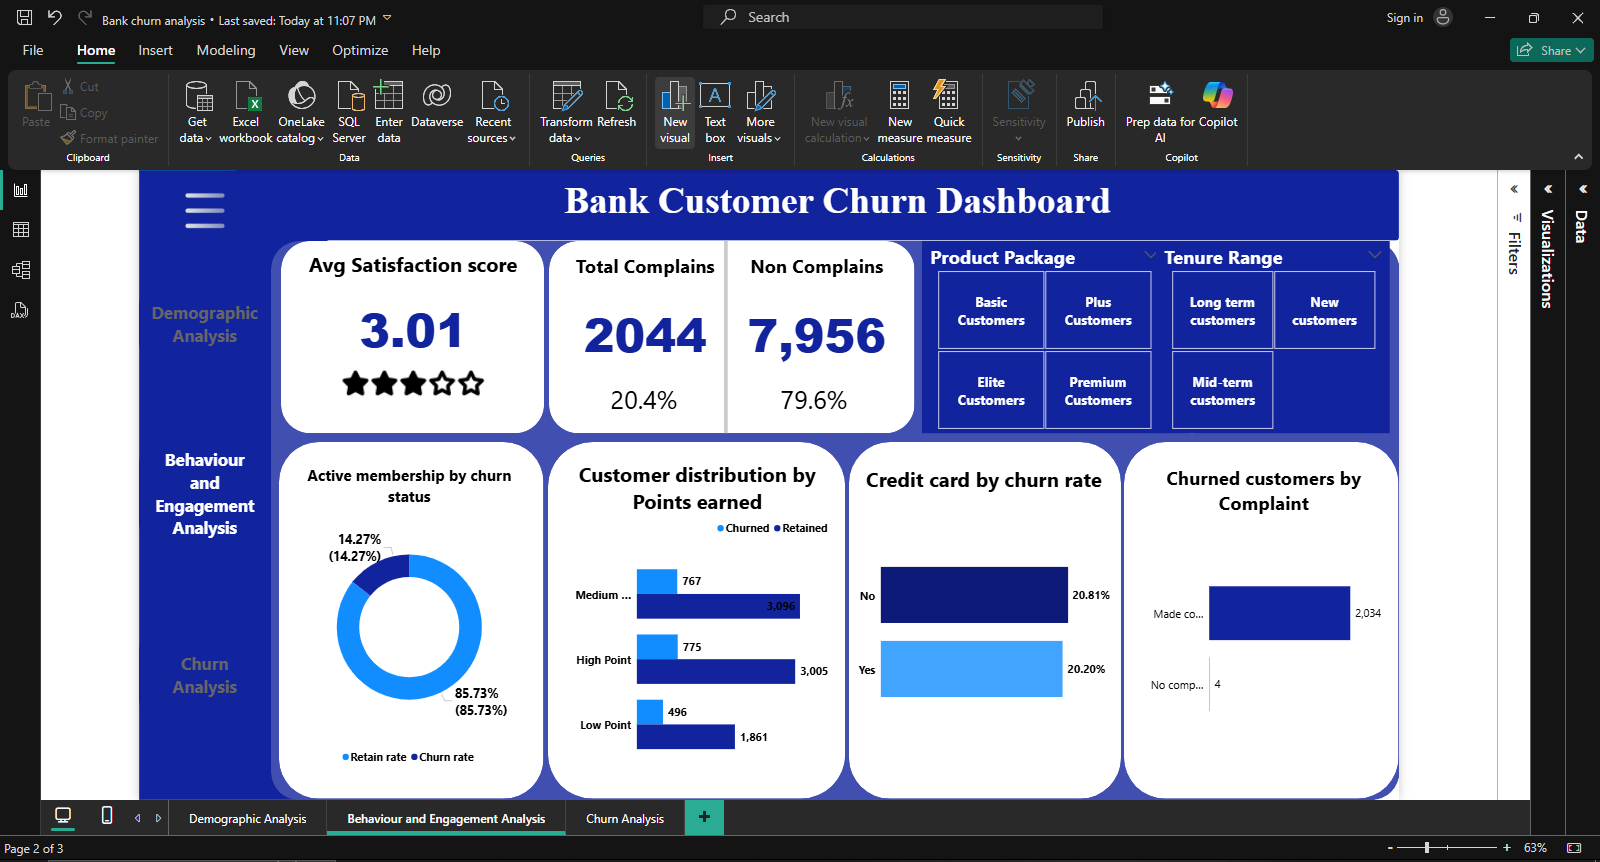

Layout of this report page (visuals, bound fields, positions):
{"tool":"powerbi","page":{"name":"Behaviour and Engagement Analysis","canvas":[2000,1000],"ordinal":1},"visuals":[{"type":"shape","box":[0,0,299.2,1000],"z":0},{"type":"shape","box":[208.8,112.4,1791.2,887.6],"z":1000},{"type":"shape","box":[150.6,0,1849.4,112.4],"z":2000},{"type":"textbox","box":[375.5,10,1465.9,90.4],"z":3000},{"type":"image","box":[50.2,28.1,108.4,72.3],"z":4000},{"type":"actionButton","box":[0,182.7,208.8,122.5],"z":5000},{"type":"actionButton","box":[0,417.7,208.8,192.8],"z":6000},{"type":"actionButton","box":[0,722.9,208.8,158.6],"z":7000},{"type":"shape","box":[1564.3,431.7,435.7,566.3],"z":8000},{"type":"shape","box":[1126.5,431.7,431.7,566.3],"z":9000},{"type":"shape","box":[648.6,431.7,471.9,566.3],"z":10000},{"type":"shape","box":[650.6,112.4,580.3,305.2],"z":11000},{"type":"shape","box":[222.9,431.7,419.7,566.3],"z":12000},{"type":"shape","box":[224.9,112.4,417.7,305.2],"z":13000},{"type":"card","title":"Avg Satisfaction score","fields":{"Values":["All Measures.Satisfaction Distribution"]},"box":[241,126.5,387.6,200.8],"z":14000},{"type":"card","title":"Total Complains","fields":{"Values":["All Measures.Total complains"]},"box":[664.7,132.5,277.1,208.8],"z":15000},{"type":"card","fields":{"Values":["All Measures.% No Complaint"]},"box":[992,327.3,158.6,72.3],"z":16000},{"type":"card","fields":{"Values":["All Measures.% Complaint"]},"box":[722.9,327.3,158.6,72.3],"z":17000},{"type":"shape","box":[781.1,112.4,301.2,305.2],"z":18000},{"type":"card","title":"Non Complains","fields":{"Values":["All Measures.No Complains"]},"box":[941.8,132.5,269.1,208.8],"z":19000},{"type":"clusteredBarChart","title":"Customer distribution by Points earned","fields":{"Y":["All Measures.Total Customers"],"Category":["Customer_Churn_Records (2).Point range"],"Series":["Customer_Churn_Records (2).Churn status"]},"box":[668.7,459.8,435.7,510],"z":20000},{"type":"donutChart","title":"Active membership by churn status","fields":{"Y":["All Measures.Active membership retain rate","All Measures.Active membership churn rate"]},"box":[241,467.9,375.5,483.9],"z":21000},{"type":"clusteredBarChart","title":"Credit card by churn rate","fields":{"Category":["Customer_Churn_Records (2).HasCrCard"],"Y":["All Measures.Churn rate"]},"box":[1136.5,467.9,409.6,483.9],"z":22000},{"type":"slicer","fields":{"Values":["Customer_Churn_Records (2).Product Package"]},"box":[1243,112.4,387.6,305.2],"z":23000},{"type":"shape","box":[1520.1,112.4,301.2,305.2],"z":24000},{"type":"slicer","fields":{"Values":["Customer_Churn_Records (2).Tenure Range"]},"box":[1614.5,112.4,371.5,305.2],"z":25000},{"type":"image","box":[243,220.9,385.5,234.9],"z":26000},{"type":"clusteredBarChart","title":"Churned customers by Complaint","fields":{"Y":["All Measures.Churned"],"Category":["Customer_Churn_Records.Complain"]},"box":[1586.3,467.9,399.6,502],"z":27000}]}

Visuals, with their boxes on the page's 2000x1000 design canvas (x1, y1, x2, y2). These are canvas units, not pixel positions in the 1600x862 screenshot, which may show the page scaled, cropped or inside an application window:
shape: Rect(0, 0, 299, 1000)
shape: Rect(209, 112, 2000, 1000)
shape: Rect(151, 0, 2000, 112)
textbox: Rect(376, 10, 1841, 100)
image: Rect(50, 28, 159, 100)
actionButton: Rect(0, 183, 209, 305)
actionButton: Rect(0, 418, 209, 610)
actionButton: Rect(0, 723, 209, 882)
shape: Rect(1564, 432, 2000, 998)
shape: Rect(1126, 432, 1558, 998)
shape: Rect(649, 432, 1120, 998)
shape: Rect(651, 112, 1231, 418)
shape: Rect(223, 432, 643, 998)
shape: Rect(225, 112, 643, 418)
"Avg Satisfaction score" card: Rect(241, 126, 629, 327)
"Total Complains" card: Rect(665, 132, 942, 341)
card - All Measures.% No Complaint: Rect(992, 327, 1151, 400)
card - All Measures.% Complaint: Rect(723, 327, 882, 400)
shape: Rect(781, 112, 1082, 418)
"Non Complains" card: Rect(942, 132, 1211, 341)
"Customer distribution by Points earned" clusteredBarChart: Rect(669, 460, 1104, 970)
"Active membership by churn status" donutChart: Rect(241, 468, 616, 952)
"Credit card by churn rate" clusteredBarChart: Rect(1136, 468, 1546, 952)
slicer - Customer_Churn_Records (2).Product Package: Rect(1243, 112, 1631, 418)
shape: Rect(1520, 112, 1821, 418)
slicer - Customer_Churn_Records (2).Tenure Range: Rect(1614, 112, 1986, 418)
image: Rect(243, 221, 628, 456)
"Churned customers by Complaint" clusteredBarChart: Rect(1586, 468, 1986, 970)
